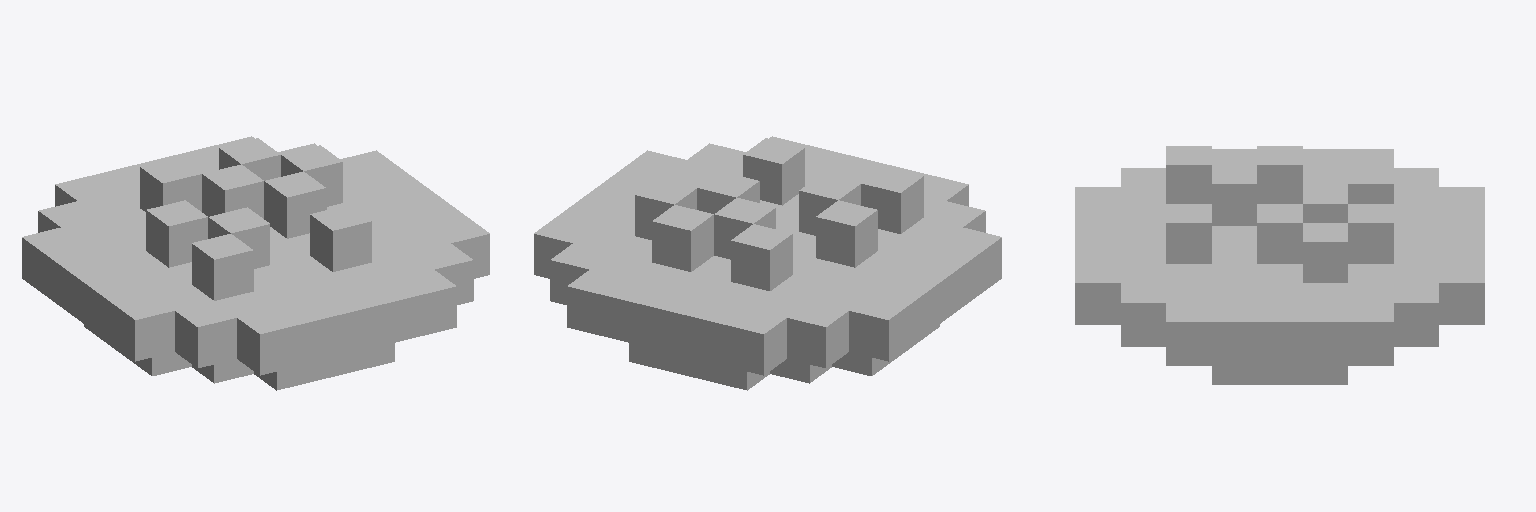
Rendered from comedero gato.obj.
The picture shows the model from 3 angles: view 1: azimuth 30°, elevation 25°; view 2: azimuth 150°, elevation 25°; view 3: azimuth 270°, elevation 25°; orthographic projection.
Visible parts, largest first — view 1: object 1; view 2: object 1; view 3: object 1.
Part boxes in pixels (bbox=[...]): object 1: bbox=[22, 136, 489, 390]; object 1: bbox=[534, 136, 1001, 390]; object 1: bbox=[1075, 146, 1484, 384].
Size of the model in its own units: 0.9 by 0.3 by 0.9.